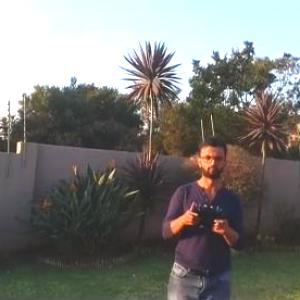follow: (156, 126, 251, 299)
